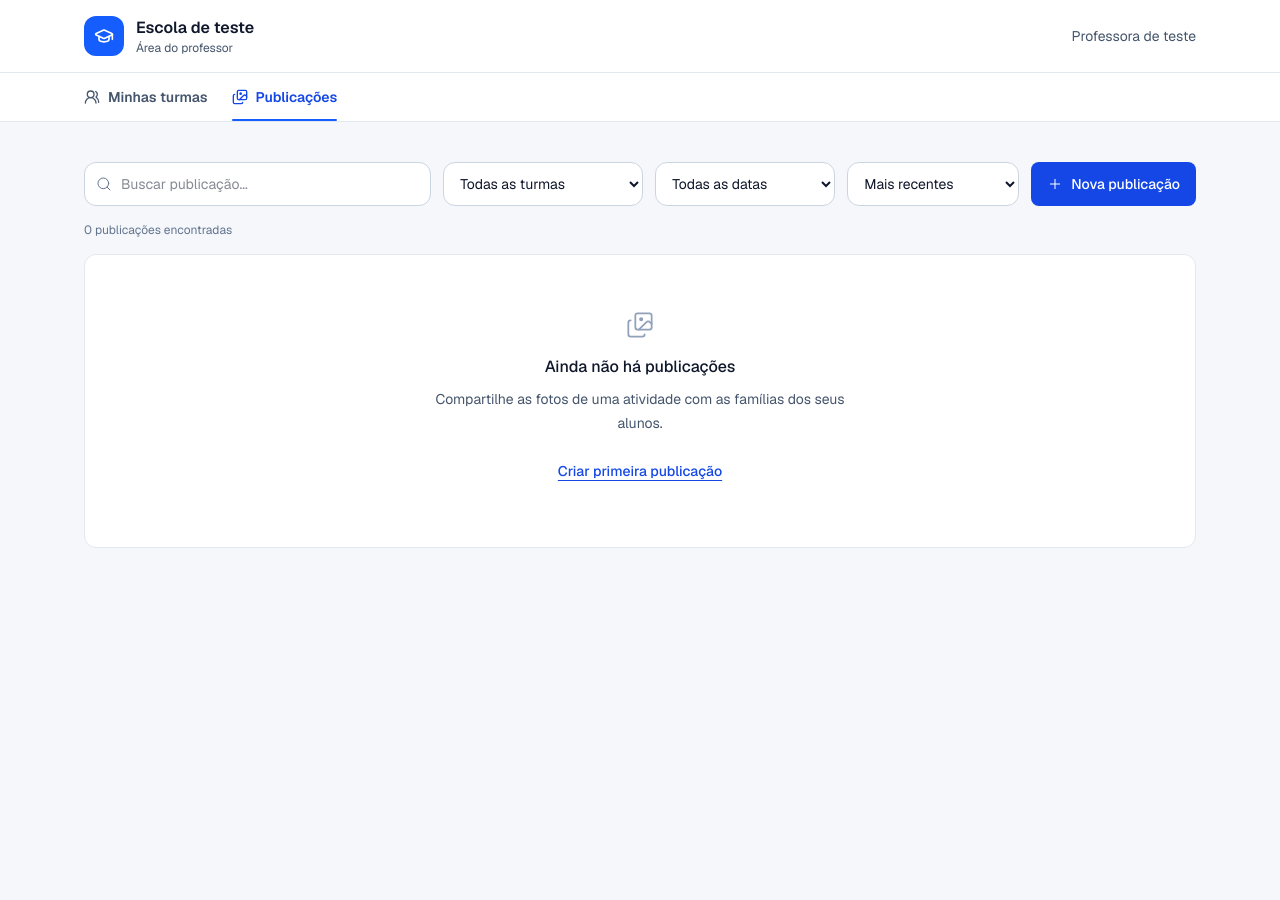
Test: workspace integrated with existing API contracts › preserves creation with real photo/student selections and the existing payload
The image size is (1280, 900).
Check: the heading "Ainda não há publicações" is shown, box [545,356,735,377]
Click the button "Nova publicação". click: (1114, 184)
box: [1031,162,1196,206]
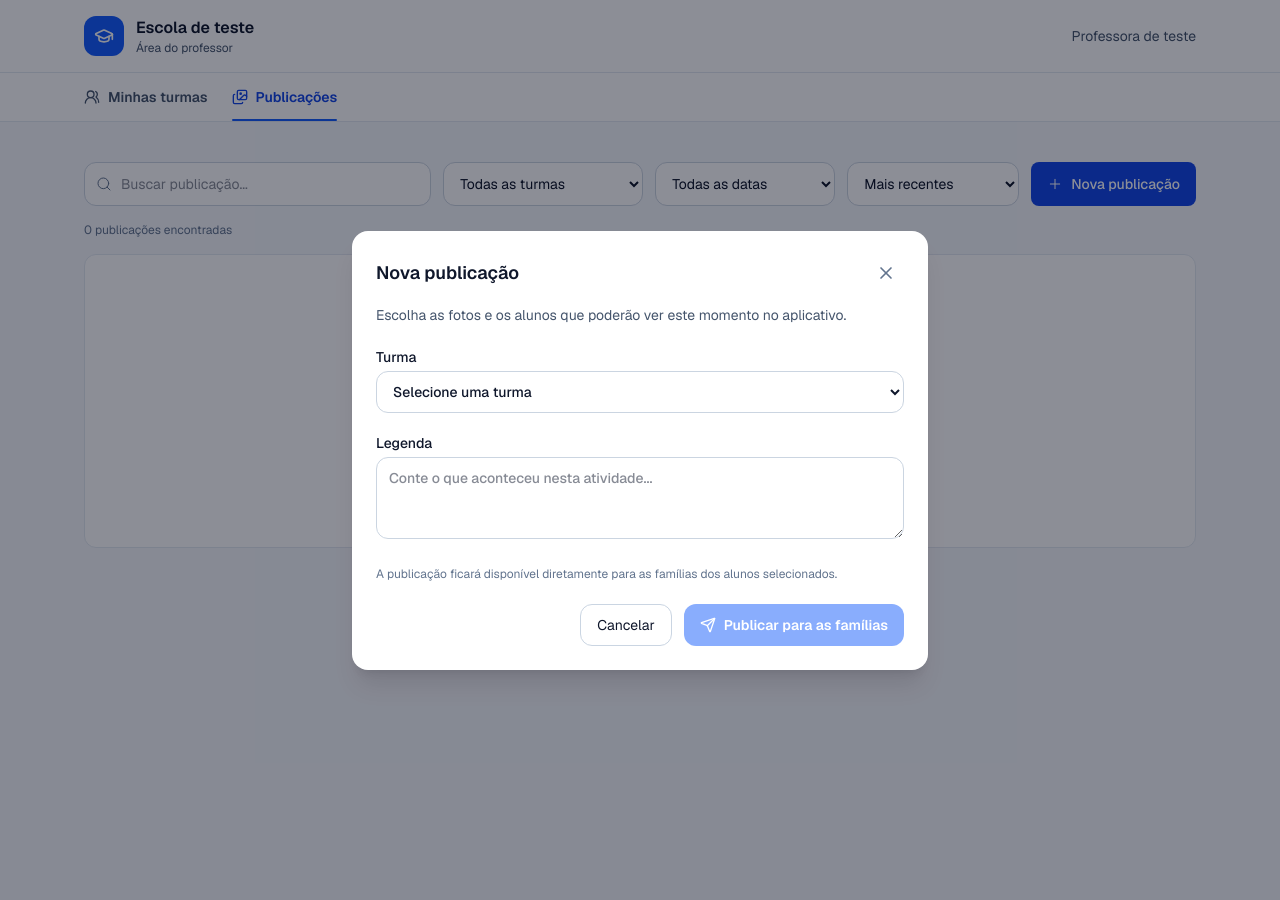
Select "Grupo 2 · 2026" in the dropdown labelled "Turma". click: (640, 392)
box: [376,370,904,412]
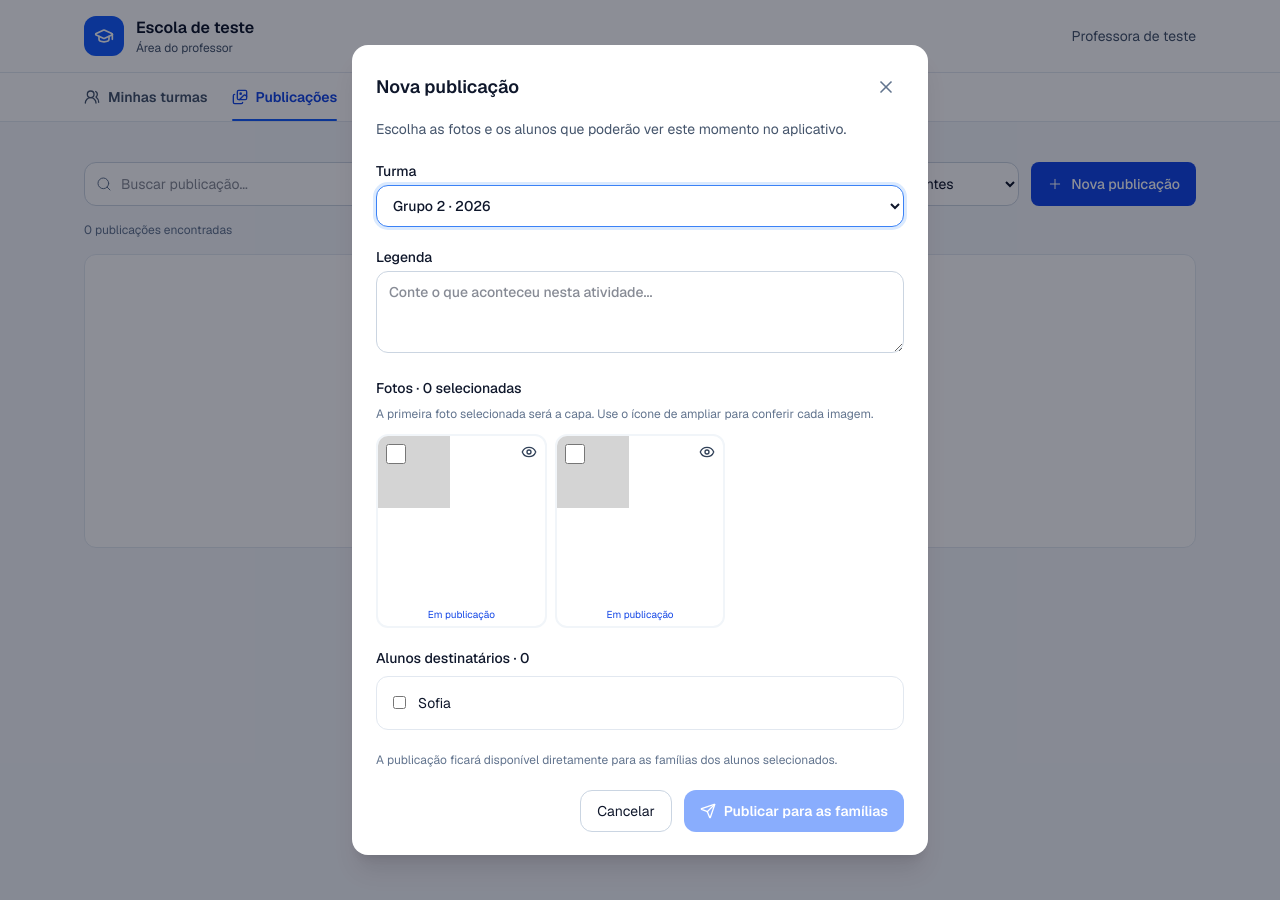
Check: the checkbox named "Selecionar foto 1" is shown, box [386,444,406,464]
Type "Uma atividade em família" into the text box labelled "Legenda". click: (640, 312)
box: [376,271,904,353]
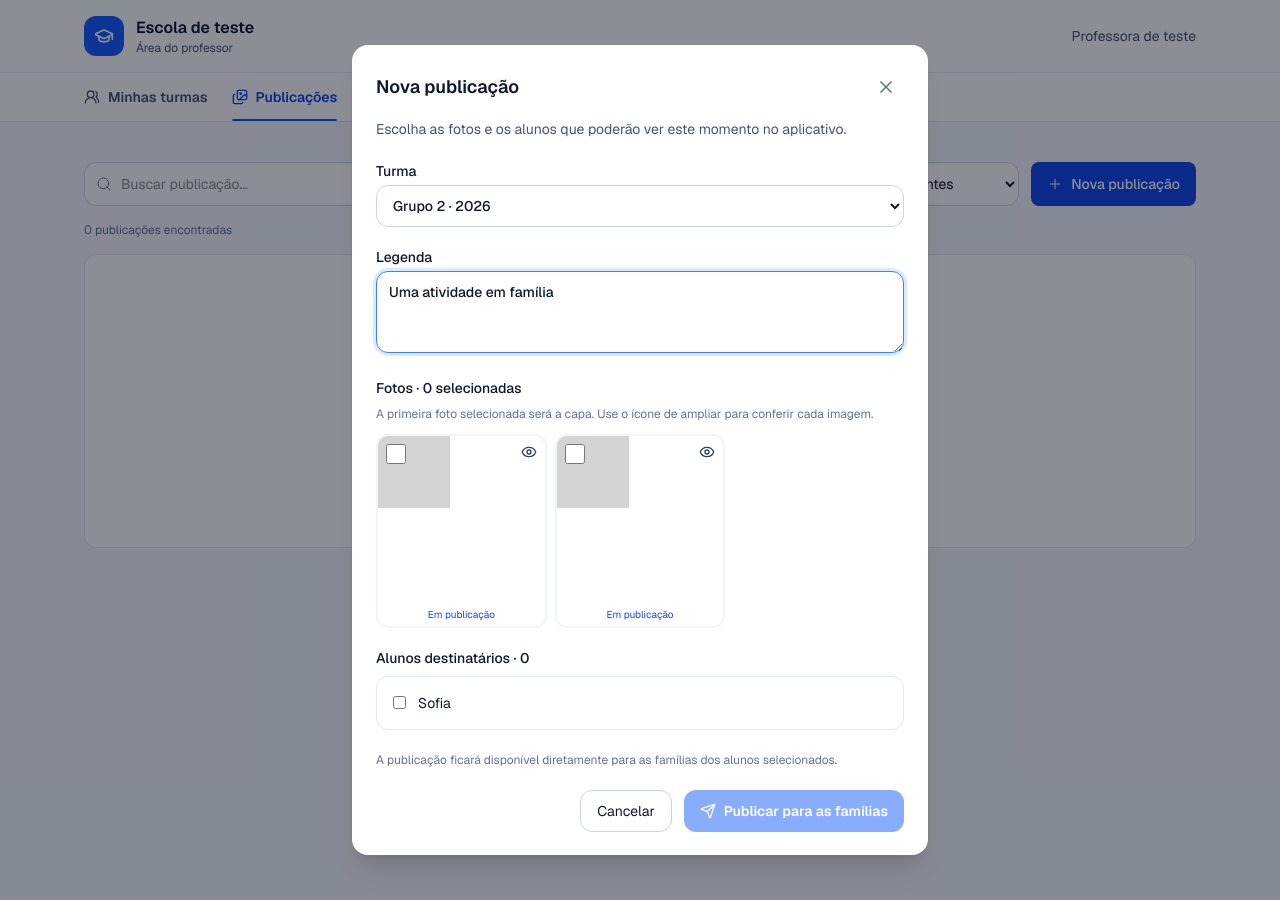
Click the checkbox named "Selecionar foto 1". click: (396, 454)
box: [386,444,406,464]
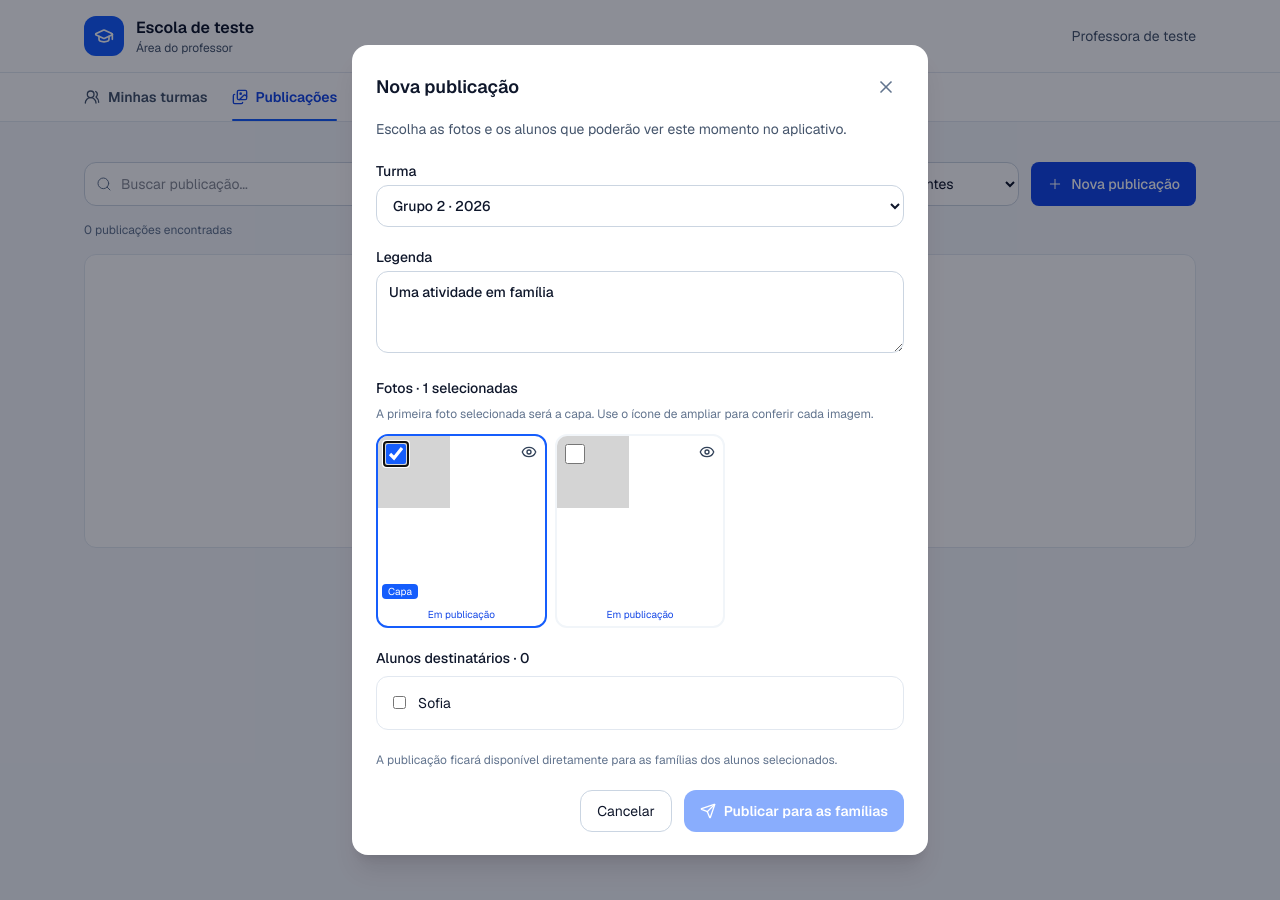
Click the checkbox labelled "Sofia". click: (400, 703)
box: [393,696,406,709]
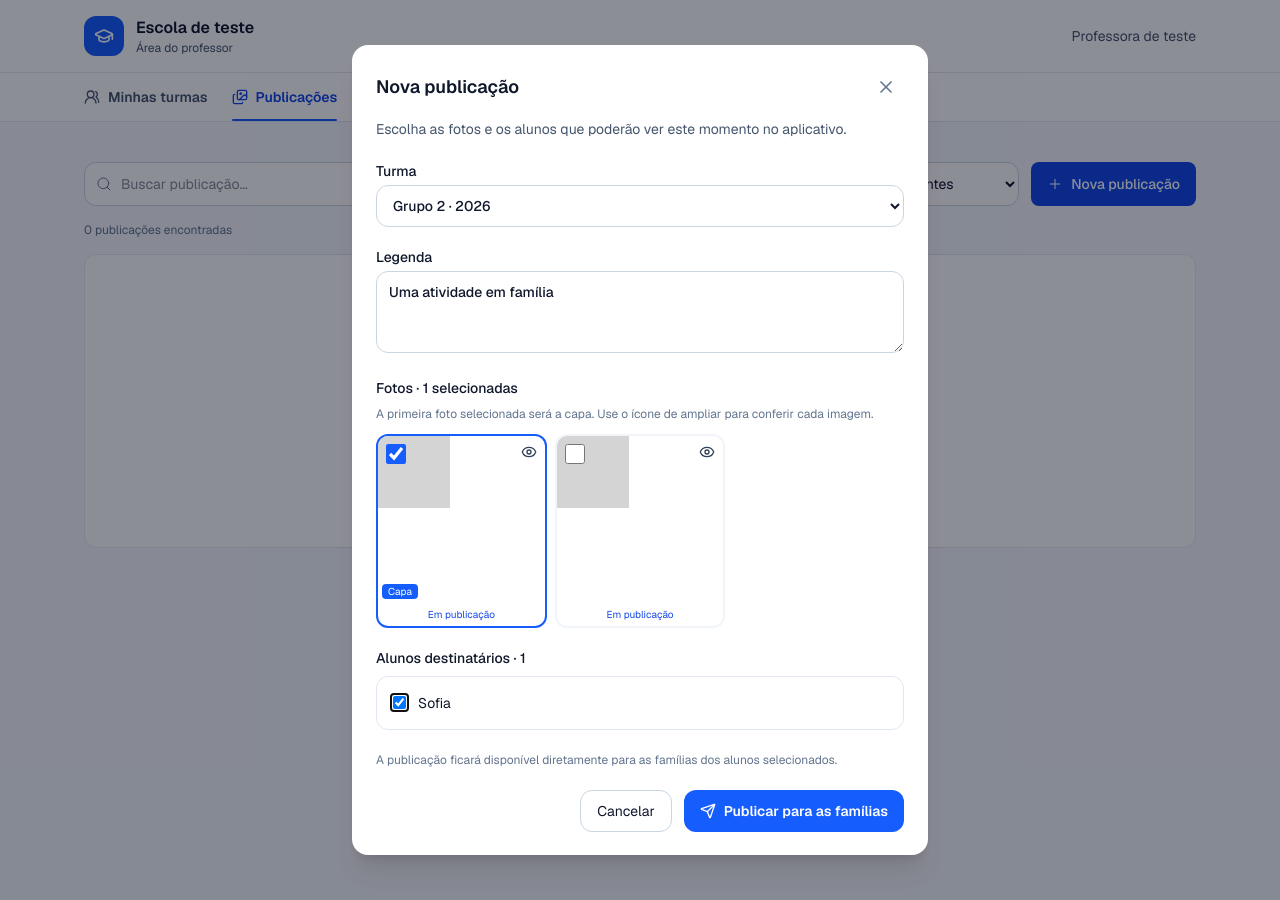
Click the button "Publicar para as famílias". click: (794, 811)
box: [684,790,904,832]
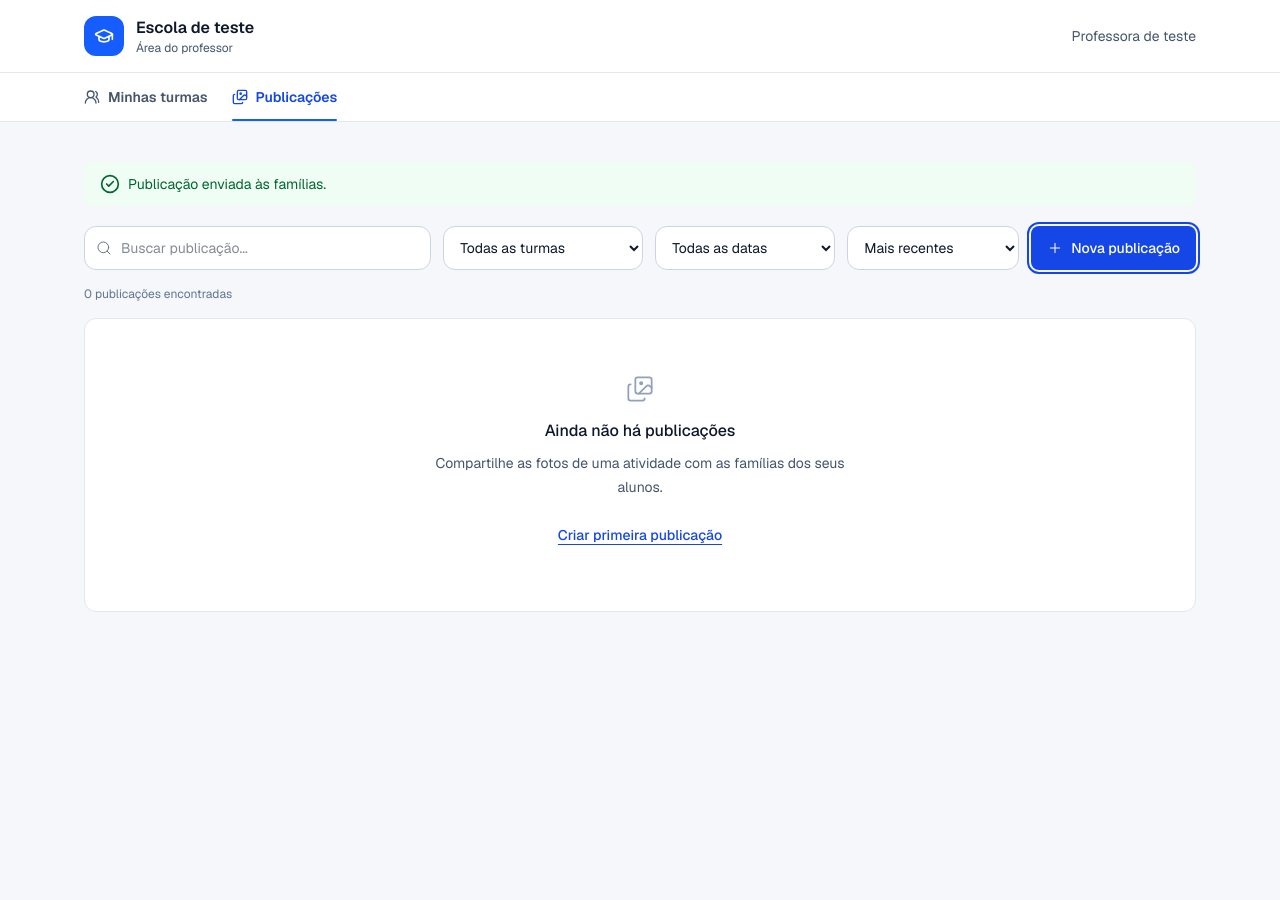
Check: the text "Publicação enviada às famílias." is shown, box [84,162,1196,206]
